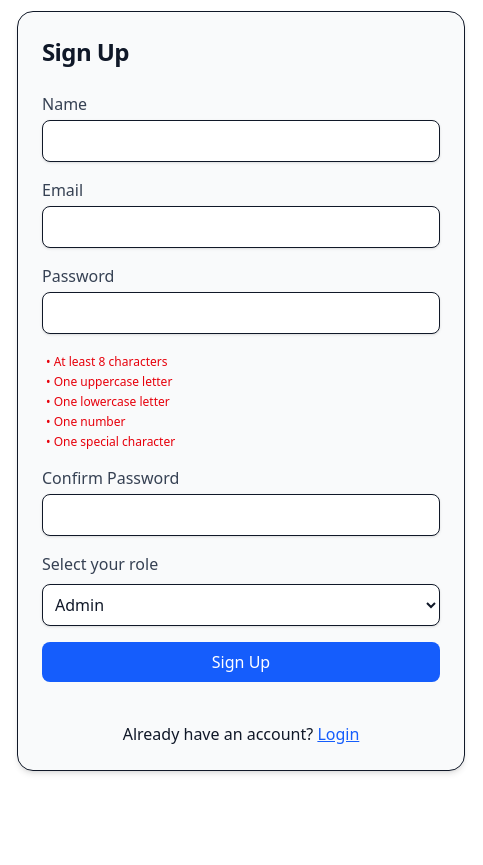
Test: Register Page - unit tests (validation & UI) › should show error when name has less than 2 characters
The width and height of the screenshot is (483, 865).
Type "A" into the field labelled "Name" at (241, 141), box [42, 120, 440, 162]
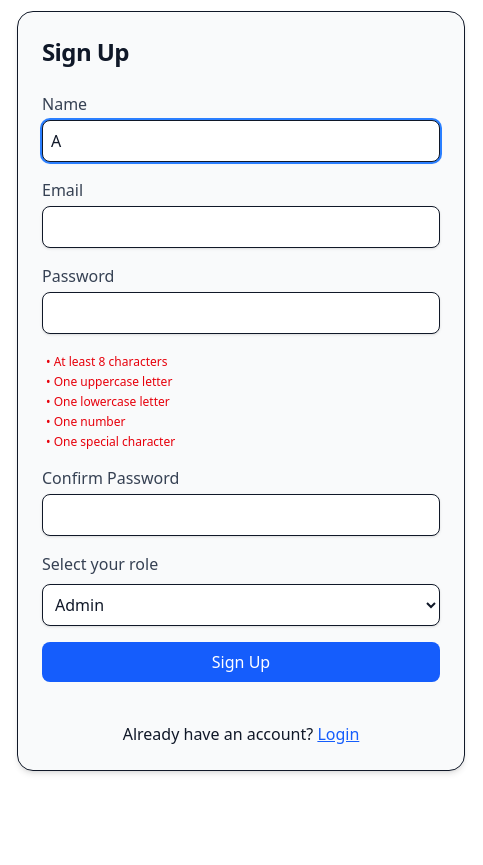
Click the button "Sign Up" at (241, 662), box [42, 642, 440, 682]
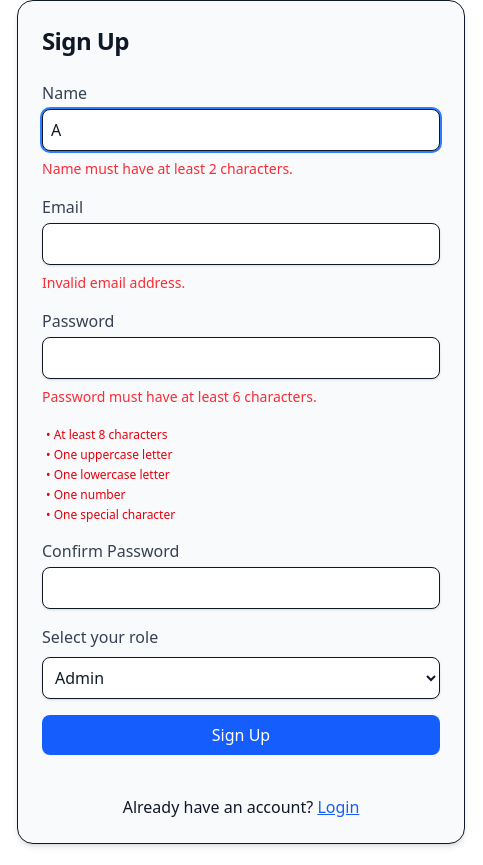
Expected: the text "Name must have at least 2 characters." is shown, [42, 159, 293, 178]
